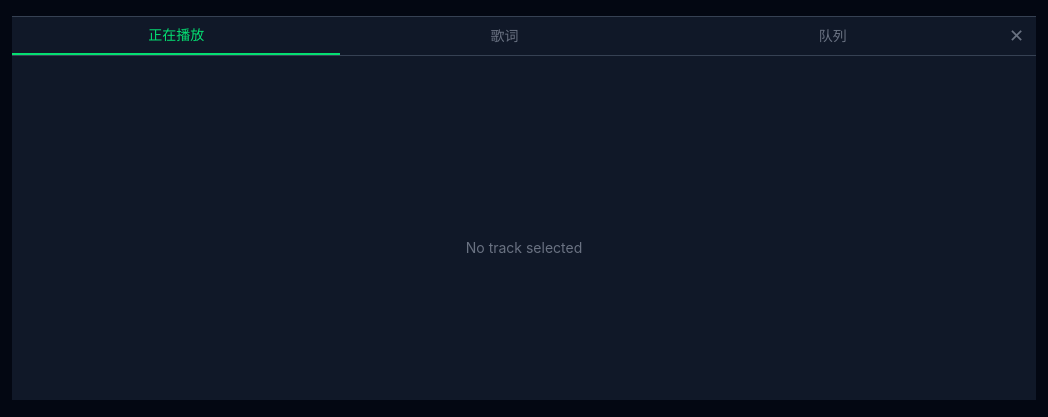
Test: PlayerPanel › switches to lyrics tab
Click the button "歌词": (504, 36) [340,17,669,55]
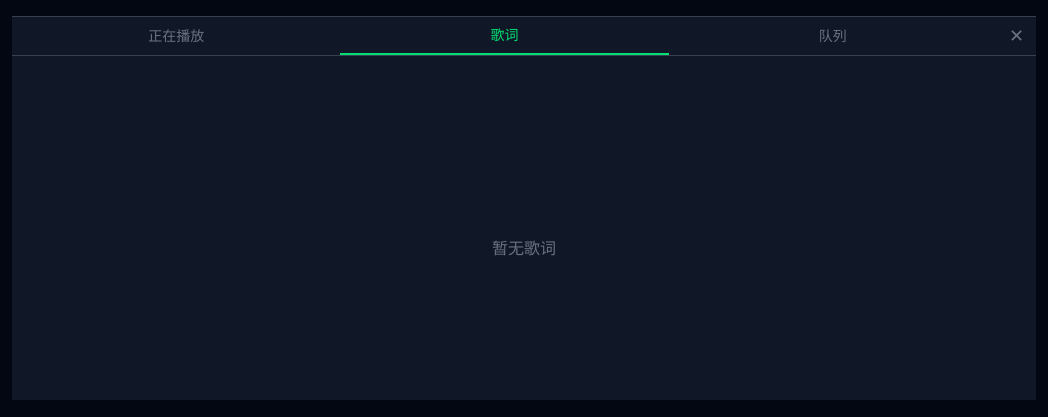
Now the text "暂无歌词" is shown, box [492,236,556,260]
